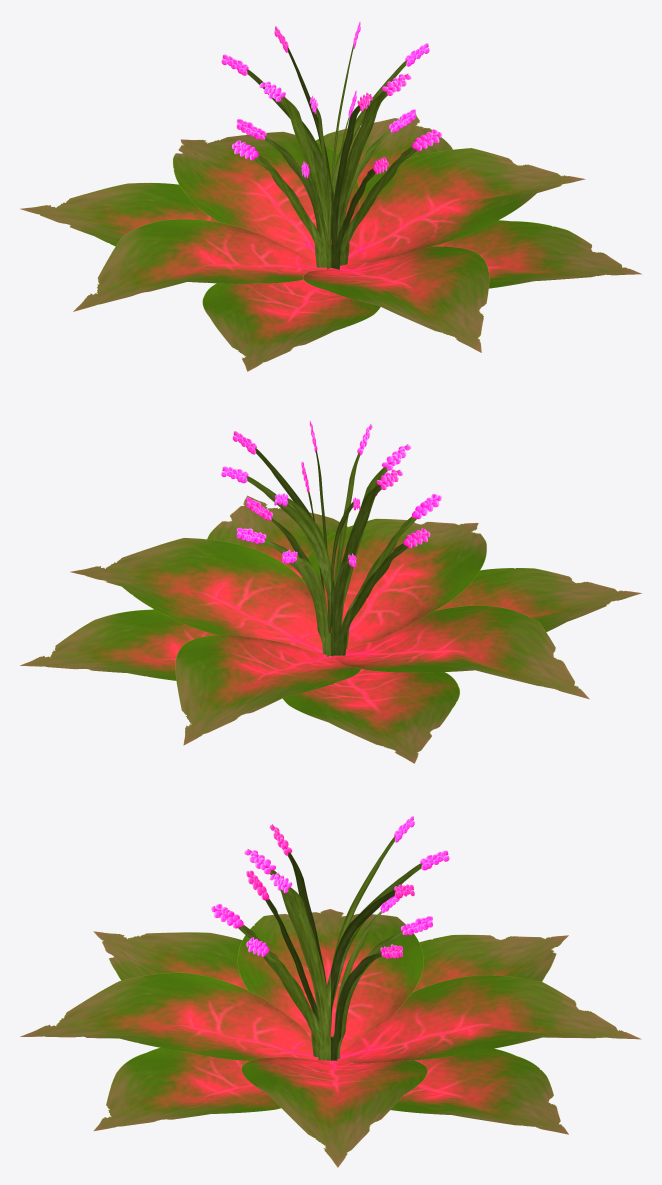
Rendered from flower_-_module_xb1101.glb.
3 renders of one model, top to bottom at view 1: azimuth 30°, elevation 25°; view 2: azimuth 150°, elevation 25°; view 3: azimuth 270°, elevation 25°, orthographic. The views are drawn at different scales.
Parts seen in each view (by area): view 1: pPlane9, pPlane7, pPlane6, pPlane8, pPlane4, pPlane5, pPlane1, pPlane17, pPlane11, pPlane16, pPlane3, pPlane12; view 2: pPlane9, pPlane7, pPlane8, pPlane6, pPlane1, pPlane3, pPlane4, pPlane11, pPlane12, pPlane5, pPlane16, pPlane17; view 3: pPlane8, pPlane6, pPlane7, pPlane9, pPlane5, pPlane3, pPlane4, pPlane1, pPlane17, pPlane12, pPlane16.
Boxes of the visible parts, x1,y1,x2,y2 form: pPlane9: [340, 148, 585, 266]; pPlane7: [73, 219, 326, 311]; pPlane6: [173, 131, 359, 260]; pPlane8: [302, 246, 489, 352]; pPlane4: [202, 279, 380, 371]; pPlane5: [432, 220, 642, 288]; pPlane1: [20, 182, 219, 246]; pPlane17: [221, 54, 441, 265]; pPlane11: [232, 43, 429, 267]; pPlane16: [274, 26, 388, 269]; pPlane3: [315, 113, 452, 187]; pPlane12: [301, 21, 360, 268]; pPlane9: [70, 538, 322, 652]; pPlane7: [333, 605, 589, 699]; pPlane8: [301, 518, 486, 649]; pPlane6: [175, 635, 360, 745]; pPlane1: [282, 669, 459, 763]; pPlane3: [19, 609, 216, 680]; pPlane4: [435, 568, 642, 632]; pPlane11: [232, 431, 430, 655]; pPlane12: [221, 444, 441, 654]; pPlane5: [207, 495, 347, 577]; pPlane16: [274, 424, 387, 656]; pPlane17: [301, 421, 360, 656]; pPlane8: [20, 972, 318, 1060]; pPlane6: [331, 975, 641, 1063]; pPlane7: [237, 909, 423, 1052]; pPlane9: [241, 1057, 427, 1167]; pPlane5: [93, 1047, 280, 1131]; pPlane3: [390, 1048, 568, 1134]; pPlane4: [93, 931, 247, 989]; pPlane1: [412, 934, 568, 992]; pPlane17: [246, 816, 414, 1060]; pPlane12: [246, 824, 414, 1060]; pPlane16: [211, 849, 449, 1058].
Bounding box in the file's own units: 0.0524 × 0.02 × 0.0523.
2 materials, 2 textured.
